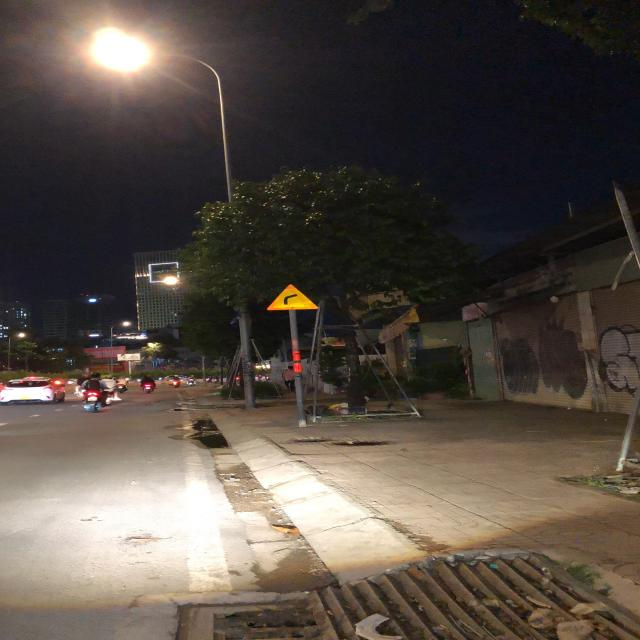Bien bao cho ngoat nguy hiem: (260, 282, 328, 312)
